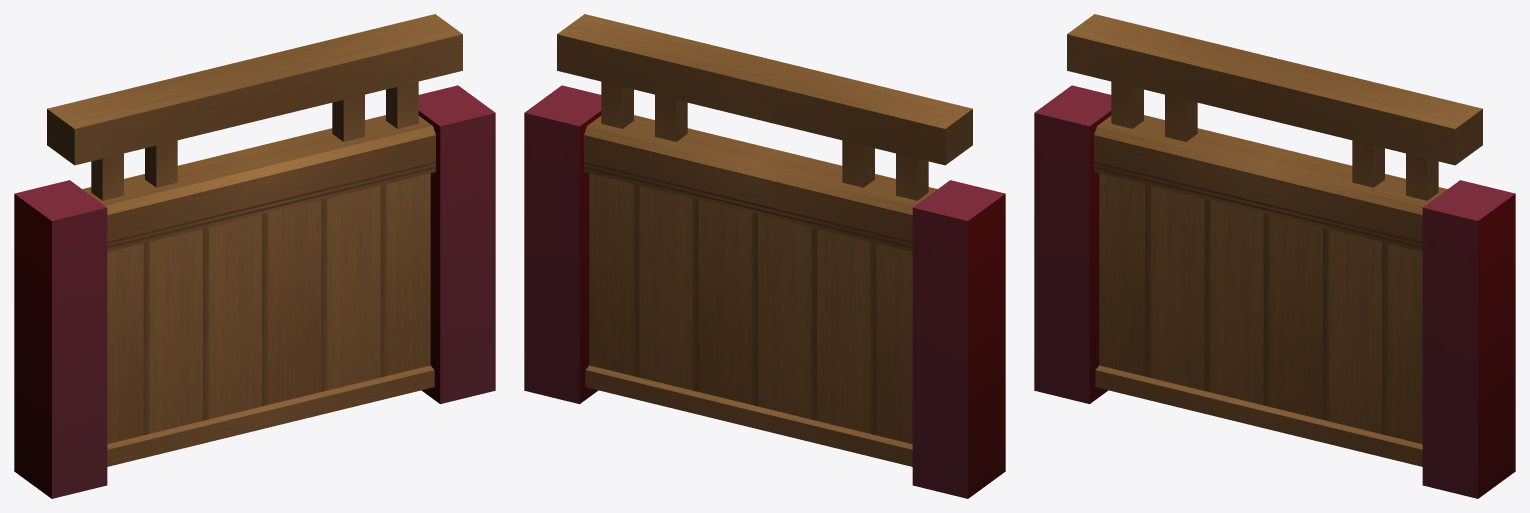
File: SK_Wall.FBX
3 renders of one model, left to right at view 1: azimuth 30°, elevation 25°; view 2: azimuth 150°, elevation 25°; view 3: azimuth 330°, elevation 25°, orthographic.
Visible parts, largest first — view 1: SK_Wall_wood, SK_Wall; view 2: SK_Wall_wood, SK_Wall; view 3: SK_Wall_wood, SK_Wall.
Part boxes in pixels (left/top/right/bottom): SK_Wall_wood: left=47, top=14, right=462, bottom=466; SK_Wall: left=14, top=85, right=495, bottom=498; SK_Wall_wood: left=557, top=14, right=972, bottom=466; SK_Wall: left=524, top=85, right=1005, bottom=498; SK_Wall_wood: left=1067, top=14, right=1482, bottom=466; SK_Wall: left=1034, top=85, right=1515, bottom=498.
Bounding box in the file's own units: 186 × 144 × 27.27.
